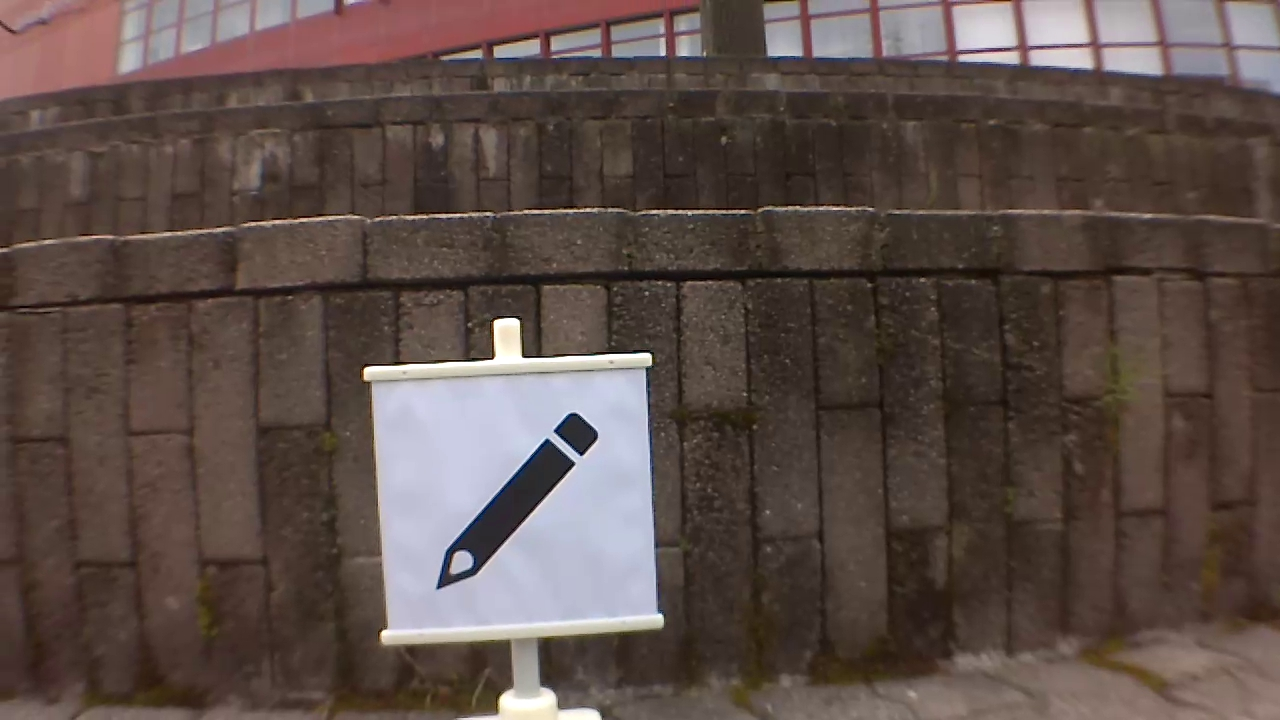pencil: (434, 411, 610, 590)
